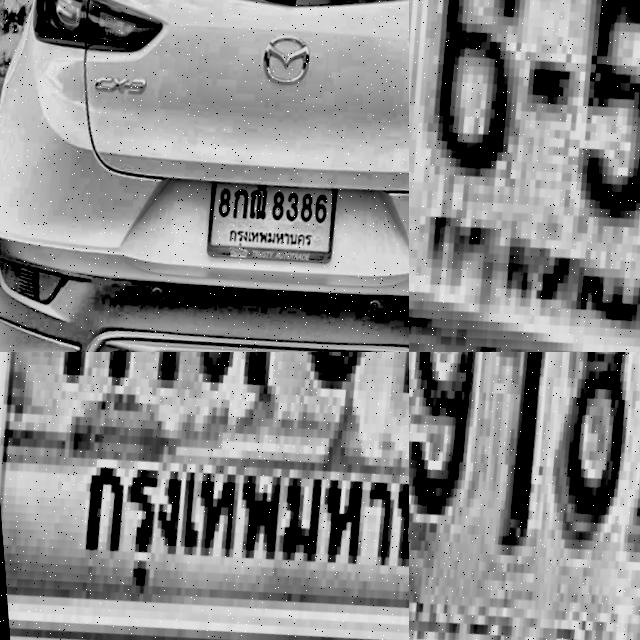license-plate: (0, 352, 409, 640), (409, 0, 640, 352), (409, 352, 640, 640), (193, 171, 339, 285)
